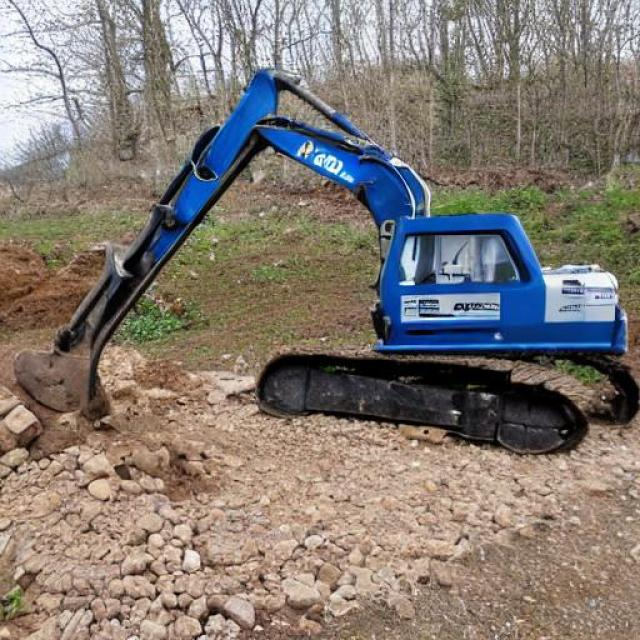excavator: (262, 275, 393, 576)
